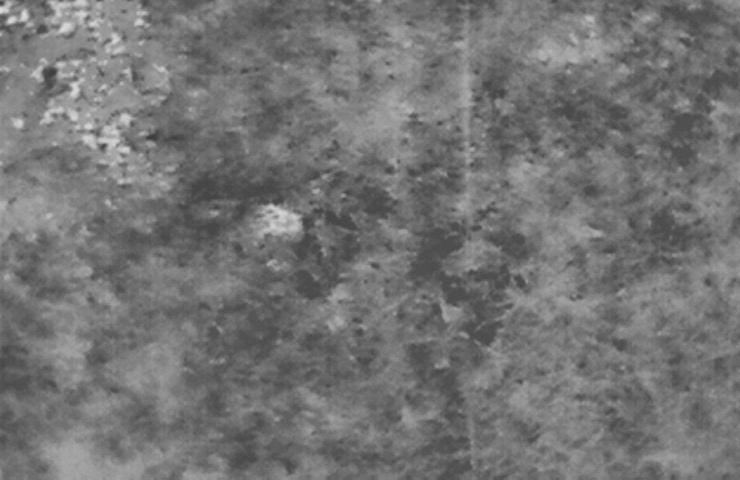landmines: (246, 195, 305, 244)
